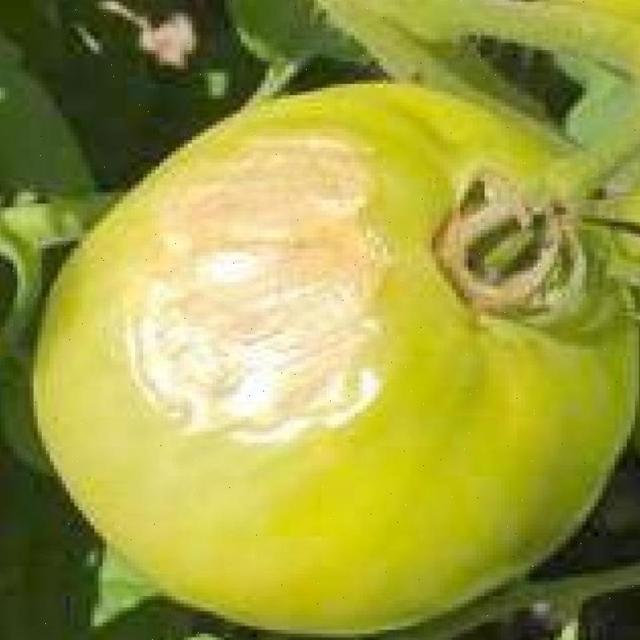Sunscald Fruit: (77, 77, 282, 296)
